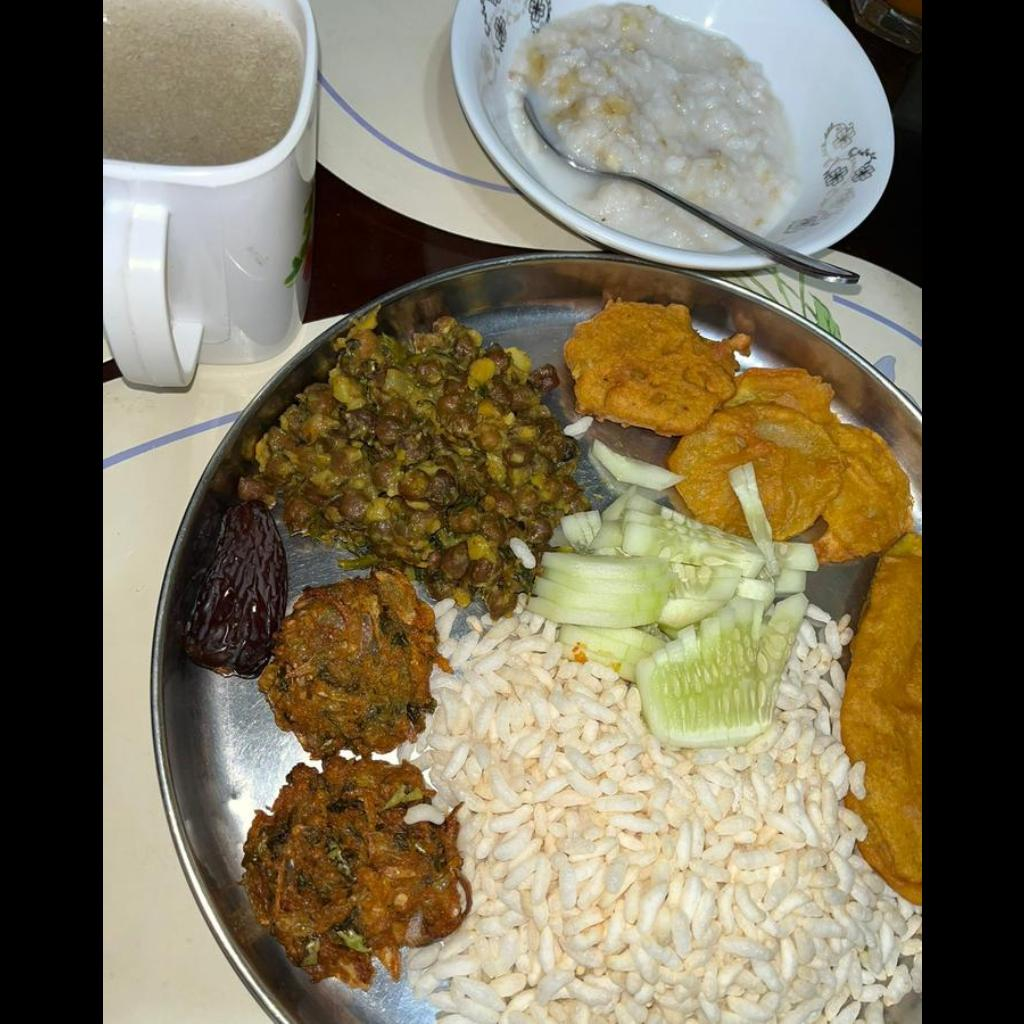beguni: (242, 571, 468, 988), (851, 536, 920, 888)
chola: (243, 318, 568, 599)
chop-alu: (564, 292, 907, 556)
cucumber: (525, 441, 817, 748)
dates: (185, 502, 282, 671)
juice: (102, 0, 301, 165)
payesh: (506, 5, 793, 254)
puffed-rice: (408, 608, 920, 1023)
